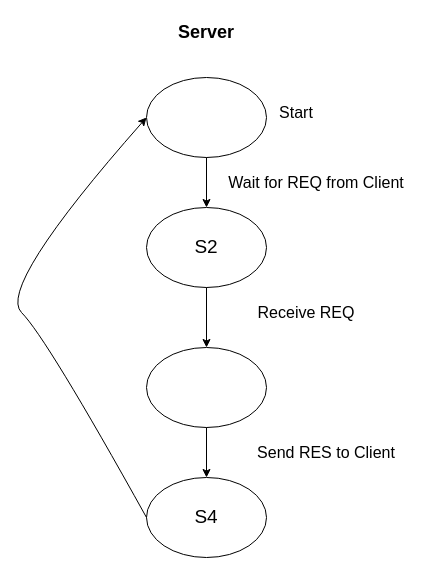
The diagram is 424 pixels wide and 575 high, and some of its shapes have lost their labels. Each missing label, with the centre of its shape:
S1: pixel 206 117
S3: pixel 206 387
